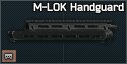SA-58%5FAL AIM Sports Universal M-LOK handguard: (0, 0, 127, 64)
